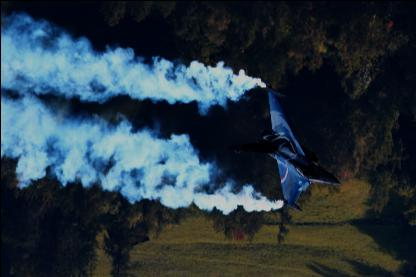RQ4: (224, 84, 340, 212)
